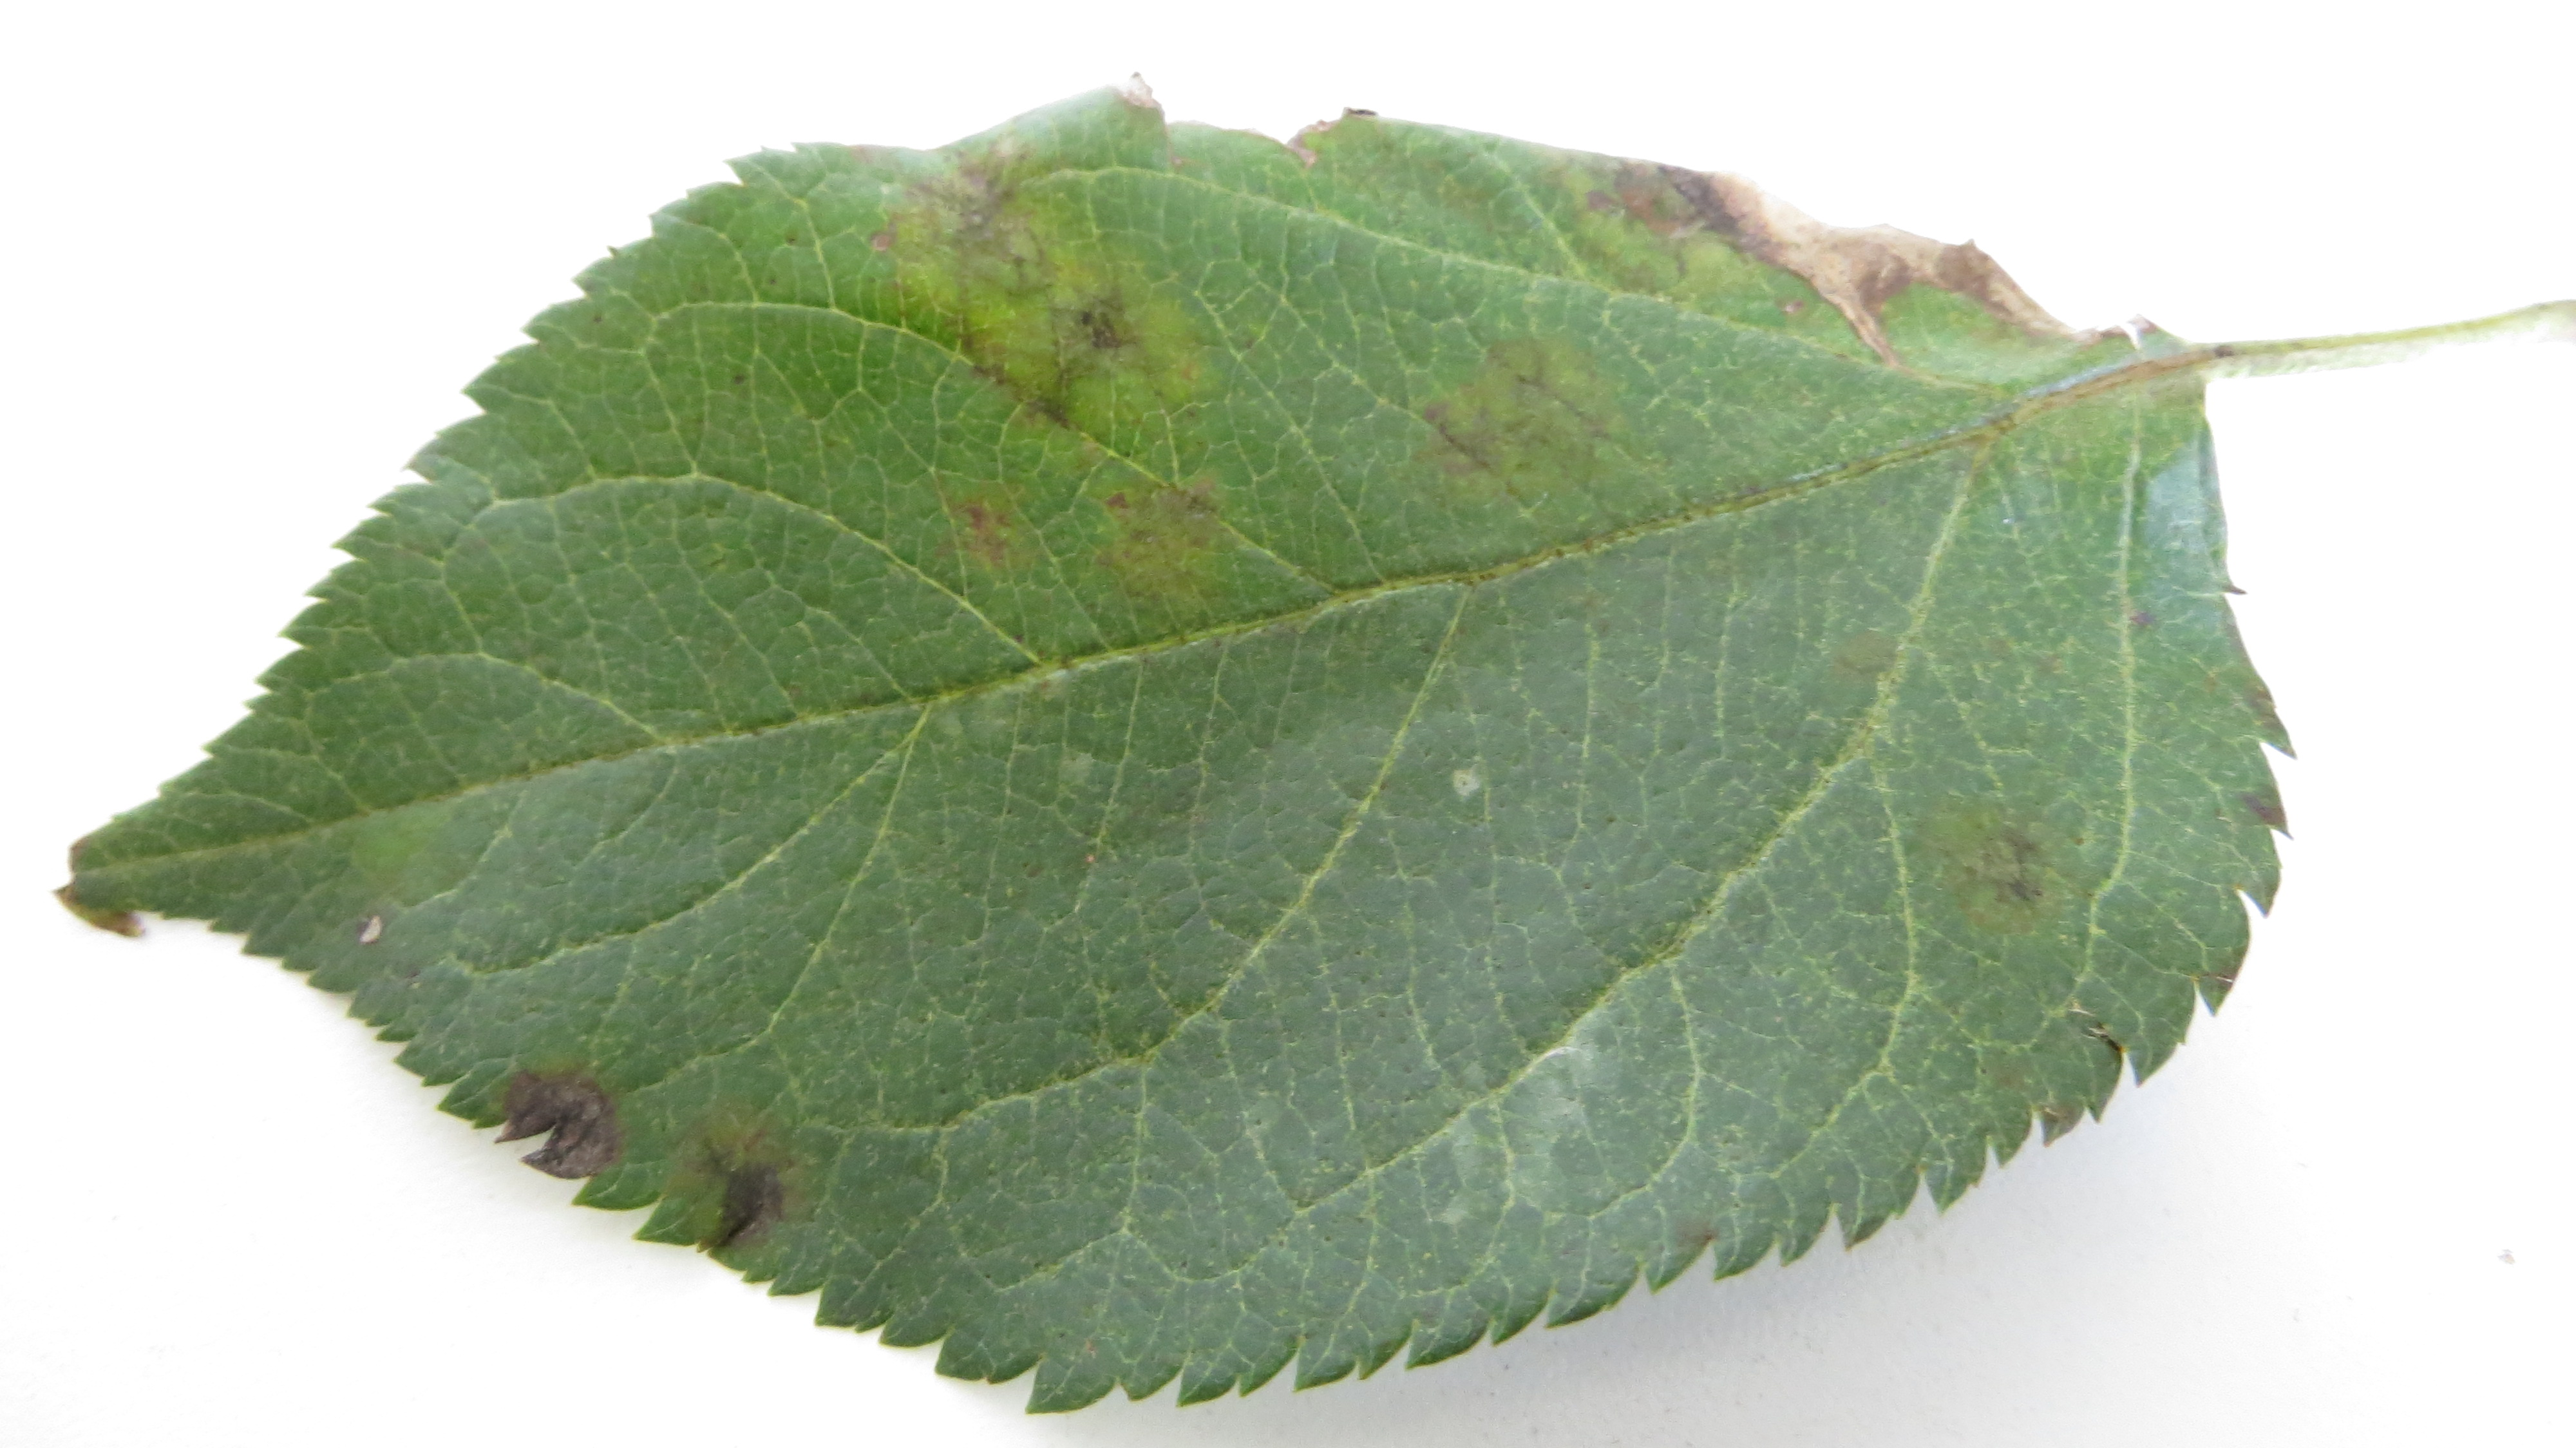sarna: (1412, 326, 1649, 520), (862, 133, 1056, 319), (1757, 196, 1909, 370), (1056, 248, 1214, 412), (649, 1089, 796, 1260), (481, 1027, 625, 1186), (1077, 455, 1237, 597), (1589, 150, 1762, 273), (943, 303, 1074, 455), (1934, 789, 2065, 926), (931, 458, 1053, 598), (1893, 235, 2040, 345)
